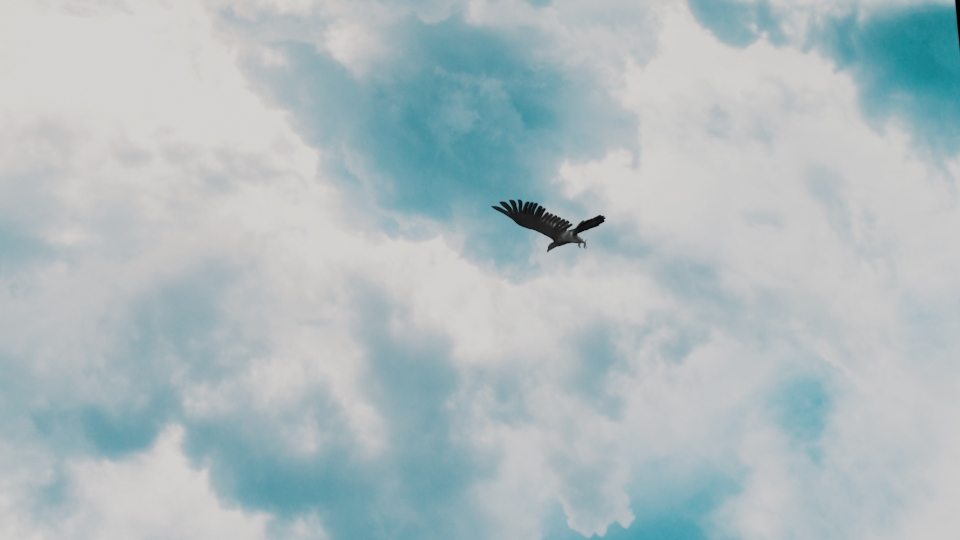bird: (491, 197, 610, 253)
